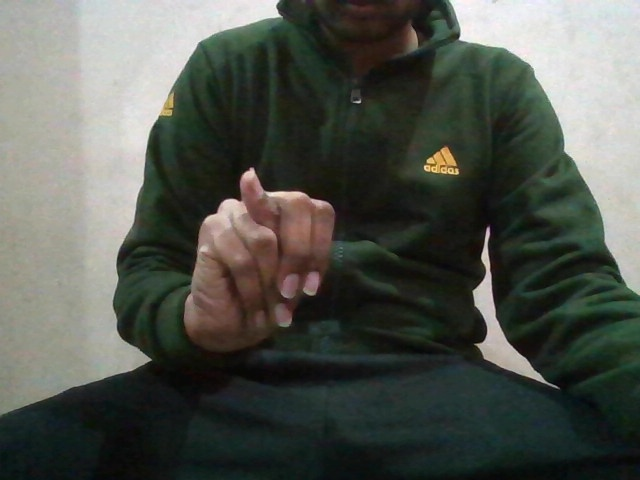N: (193, 168, 332, 349)
